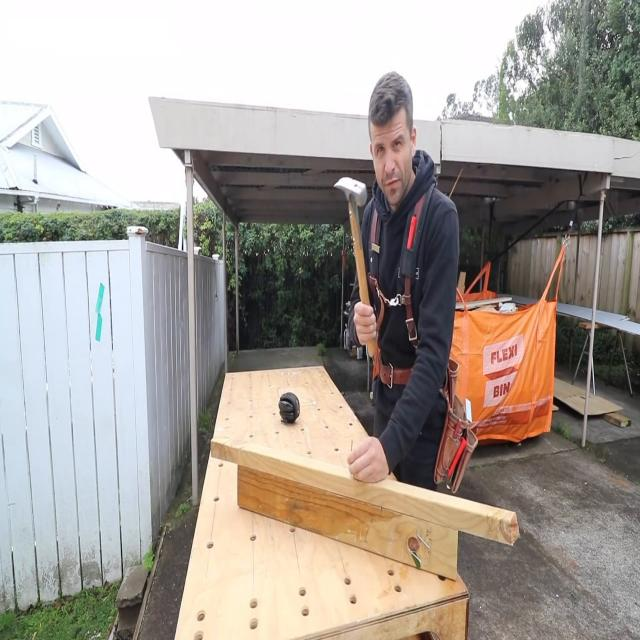hammer: (334, 178, 375, 356)
